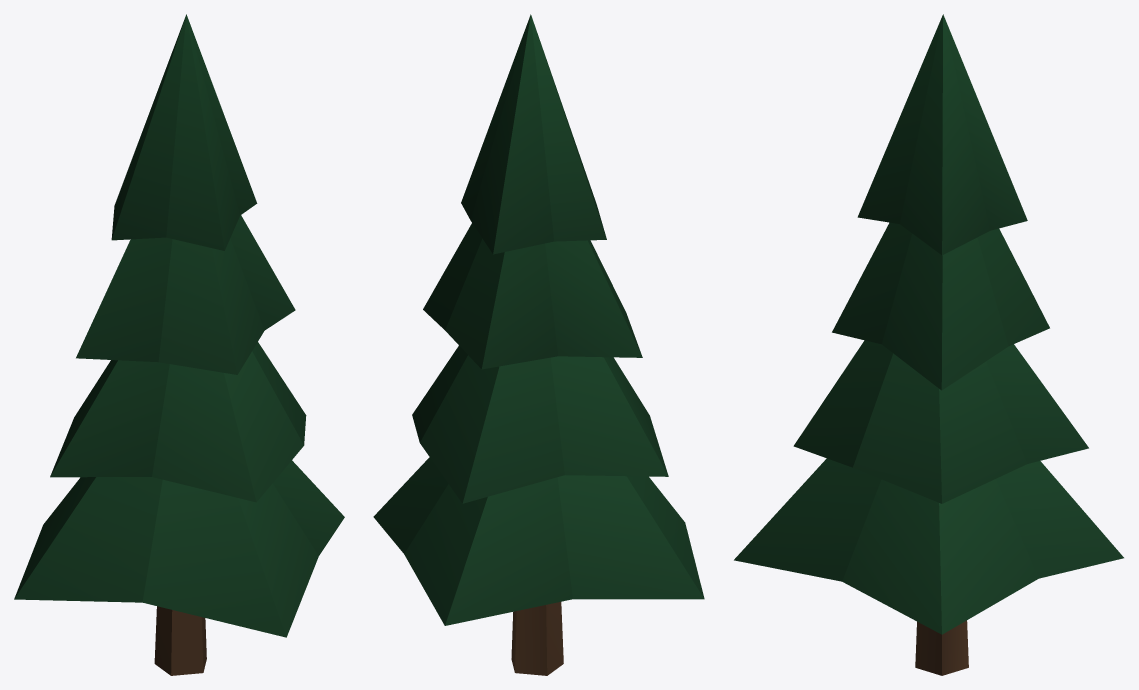
Rendered from tree_pine_a_lod1.glb.
The picture shows the model from 3 angles, left to right: view 1: azimuth 30°, elevation 25°; view 2: azimuth 150°, elevation 25°; view 3: azimuth 270°, elevation 25°; orthographic projection.
Visible parts, largest first — view 1: layer, layer.001, layer.002, layer.003, trunk; view 2: layer, layer.001, layer.002, layer.003, trunk; view 3: layer, layer.001, layer.002, layer.003, trunk.
Boxes of the visible parts, left/top/right/bottom form: layer: left=14, top=460, right=344, bottom=637; layer.001: left=50, top=342, right=306, bottom=502; layer.002: left=76, top=215, right=295, bottom=374; layer.003: left=111, top=14, right=257, bottom=250; trunk: left=154, top=606, right=206, bottom=675; layer: left=373, top=457, right=704, bottom=625; layer.001: left=412, top=346, right=668, bottom=503; layer.002: left=423, top=223, right=642, bottom=369; layer.003: left=461, top=14, right=606, bottom=254; trunk: left=511, top=602, right=563, bottom=675; layer: left=734, top=458, right=1123, bottom=634; layer.001: left=793, top=340, right=1088, bottom=503; layer.002: left=832, top=222, right=1049, bottom=390; layer.003: left=857, top=14, right=1027, bottom=255; trunk: left=915, top=620, right=968, bottom=675.
Size of the model in its own units: 2.18 by 4.08 by 2.22.
